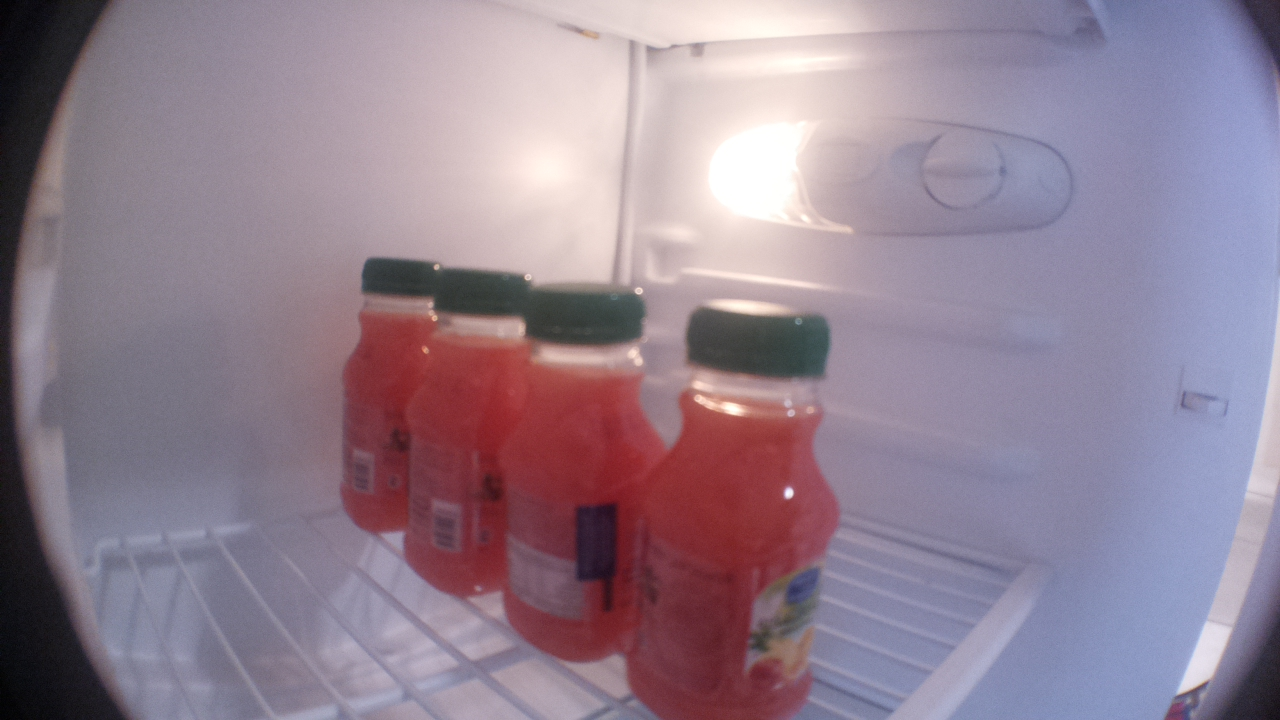juice: (624, 291, 842, 719), (490, 284, 637, 671), (398, 258, 503, 607), (338, 253, 419, 544)
